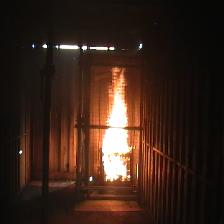fire: (103, 67, 132, 181)
